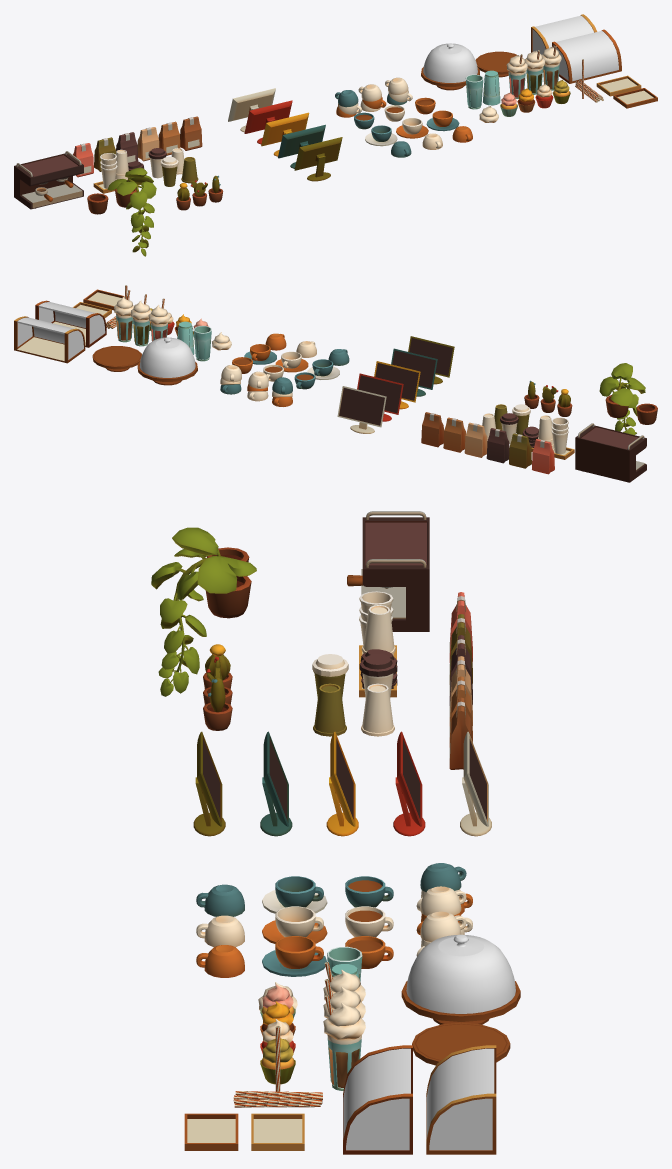
Rendered from Food_and_Deco.fbx.
The picture shows the model from 3 angles, top to bottom: view 1: azimuth 30°, elevation 25°; view 2: azimuth 150°, elevation 25°; view 3: azimuth 270°, elevation 25°; orthographic projection. The views are drawn at different scales.
Visible parts, largest first — view 1: Coffe_Machine, Cake_Table_Display_Small_B, Plant_Hanging, Deco_CupcakeStand_Lid, Cake_Table_Display_Small_A, ComputerCashier_A, ComputerCashier_D, ComputerCashier_B, ComputerCashier_C, ComputerCashier_E, CupcakeStand, Food_Milkshake_Strawberry (+17 smaller); view 2: Coffe_Machine, Cake_Table_Display_Small_A, Deco_CupcakeStand_Lid, Plant_Hanging, Cake_Table_Display_Small_B, ComputerCashier_E, ComputerCashier_C, ComputerCashier_B, ComputerCashier_D, ComputerCashier_A, CupcakeStand, Food_Milkshake_Matcha (+23 smaller); view 3: Deco_CupcakeStand_Lid, Plant_Hanging, Cake_Table_Display_Small_A, Cake_Table_Display_Small_B, Coffe_Machine, CupcakeStand, Food_Milkshake_Chocolate, ComputerCashier_A, ComputerCashier_D, ComputerCashier_B, ComputerCashier_C, ComputerCashier_E (+21 smaller).
Part boxes in pixels (x1,y1,x2,y2): Coffe_Machine: [14, 151, 83, 209]; Cake_Table_Display_Small_B: [552, 29, 621, 83]; Plant_Hanging: [107, 167, 156, 256]; Deco_CupcakeStand_Lid: [421, 43, 479, 90]; Cake_Table_Display_Small_A: [531, 14, 597, 54]; ComputerCashier_A: [294, 137, 342, 181]; ComputerCashier_D: [244, 100, 292, 144]; ComputerCashier_B: [278, 124, 325, 168]; ComputerCashier_C: [261, 112, 309, 156]; ComputerCashier_E: [228, 88, 275, 132]; CupcakeStand: [475, 51, 517, 77]; Food_Milkshake_Strawberry: [506, 54, 527, 98]; Coffe_Machine: [575, 423, 646, 482]; Cake_Table_Display_Small_A: [14, 316, 85, 363]; Deco_CupcakeStand_Lid: [137, 337, 197, 385]; Plant_Hanging: [599, 363, 645, 435]; Cake_Table_Display_Small_B: [35, 300, 106, 347]; ComputerCashier_E: [337, 386, 386, 433]; ComputerCashier_C: [374, 361, 420, 409]; ComputerCashier_B: [391, 348, 437, 396]; ComputerCashier_D: [357, 373, 403, 421]; ComputerCashier_A: [408, 336, 454, 384]; CupcakeStand: [92, 346, 141, 371]; Food_Milkshake_Matcha: [131, 294, 151, 346]; Deco_CupcakeStand_Lid: [401, 934, 520, 1024]; Plant_Hanging: [151, 527, 256, 696]; Cake_Table_Display_Small_A: [426, 1045, 496, 1154]; Cake_Table_Display_Small_B: [343, 1045, 412, 1154]; Coffe_Machine: [361, 511, 429, 631]; CupcakeStand: [412, 1022, 510, 1065]; Food_Milkshake_Chocolate: [323, 995, 365, 1090]; ComputerCashier_A: [193, 731, 225, 836]; ComputerCashier_D: [393, 731, 425, 836]; ComputerCashier_B: [260, 731, 292, 836]; ComputerCashier_C: [326, 731, 358, 836]; ComputerCashier_E: [460, 731, 491, 836].
Size of the model in its own units: 813 by 109 by 222.
